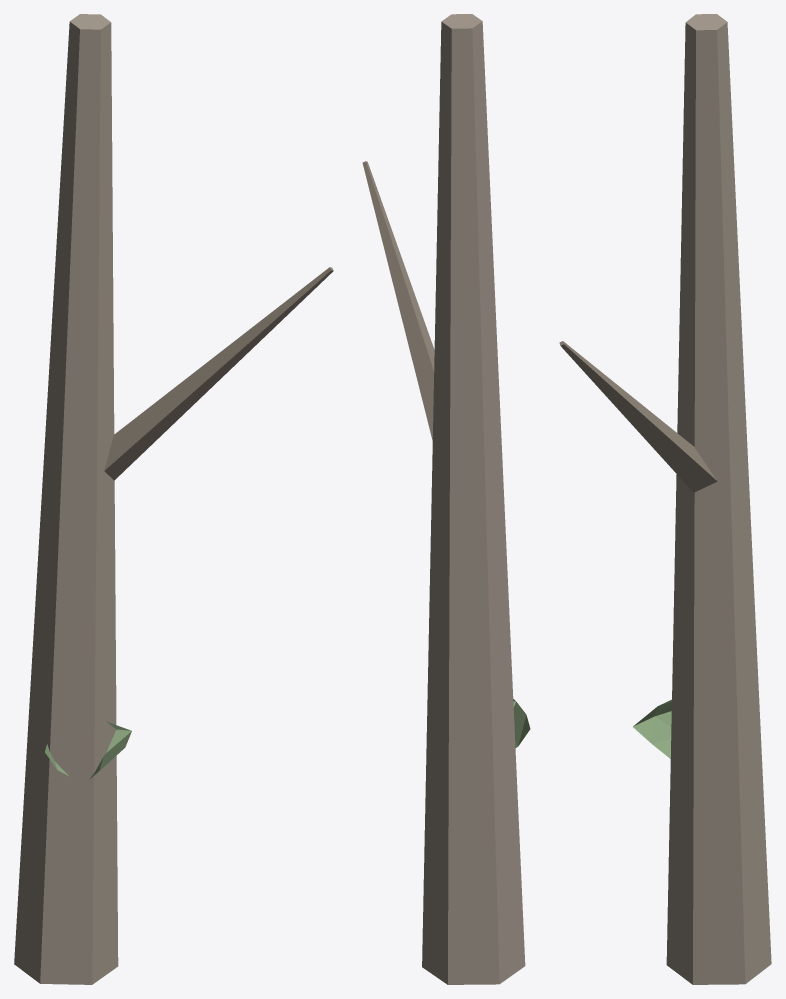
The model's file is snag_v26.glb.
3 renders of one model, left to right at view 1: azimuth 30°, elevation 25°; view 2: azimuth 150°, elevation 25°; view 3: azimuth 270°, elevation 25°, orthographic.
Parts seen in each view (by area): view 1: lod0; view 2: lod0; view 3: lod0.
Part boxes in pixels (x1,y1,x2,y2): lod0: (14,14,333,984); lod0: (362,14,530,984); lod0: (559,14,771,984).
Size of what is drawn, in the model's own units: 0.7345 by 2.9 by 0.5864.
